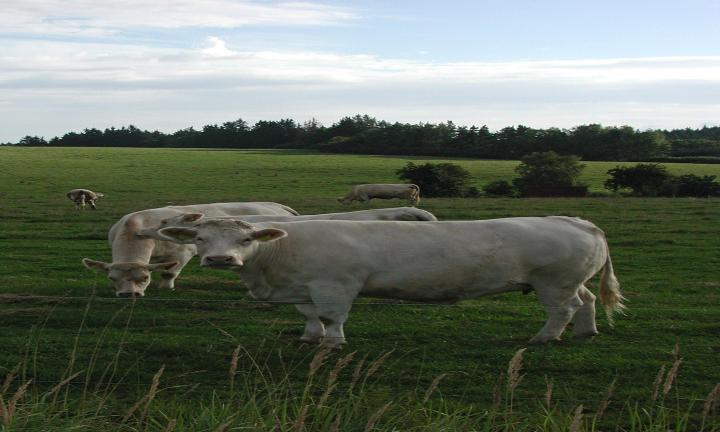Charolais: (162, 216, 624, 346), (84, 202, 284, 295)
